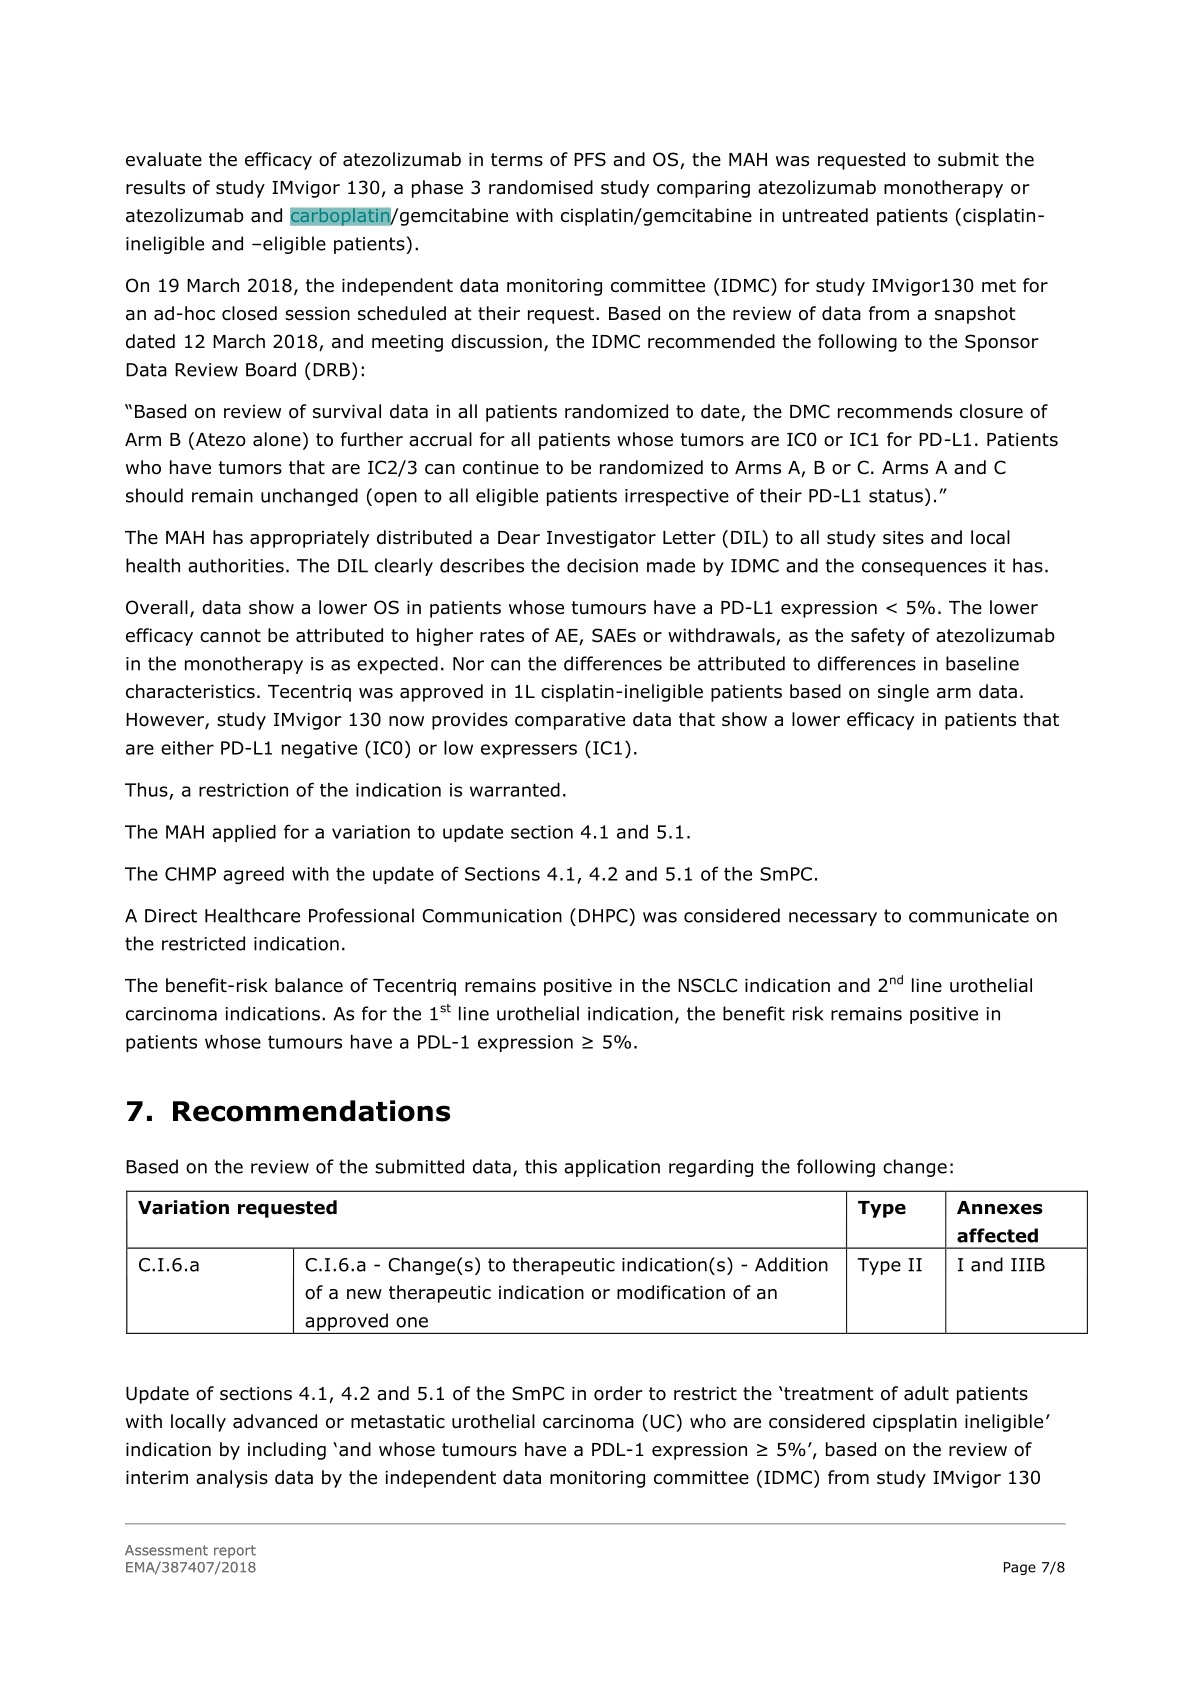merged_cells: (125, 1189, 1090, 1336)
